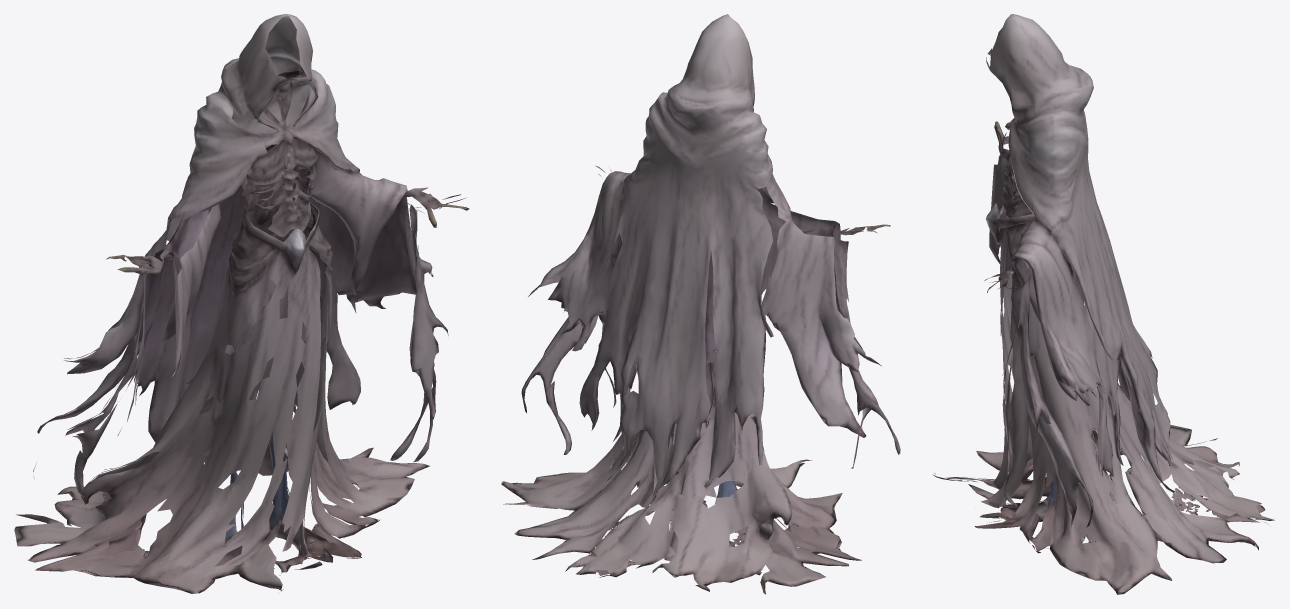
The model's file is mob_restless_shade.glb.
3 views of the same model, side by side, from view 1: azimuth 30°, elevation 25°; view 2: azimuth 150°, elevation 25°; view 3: azimuth 270°, elevation 25° (orthographic). The views are drawn at different scales.
Parts seen in each view (by area): view 1: world; view 2: world; view 3: world.
Part boxes in pixels (left/top/right/bottom): world: left=14, top=14, right=469, bottom=593; world: left=501, top=14, right=900, bottom=594; world: left=932, top=14, right=1274, bottom=594.
Size of the model in its own units: 0.8107 by 0.9951 by 0.6275.
Materials: 1 (1 with a texture image).
